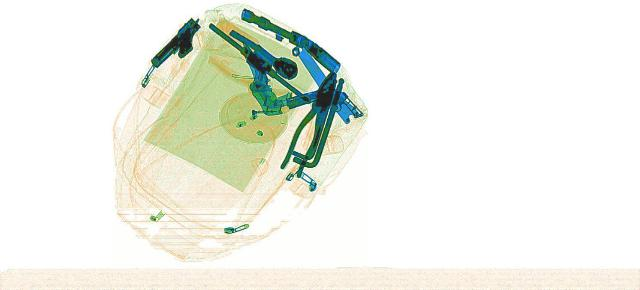Gun: (140, 17, 220, 70)
Pliers: (273, 71, 355, 172)
